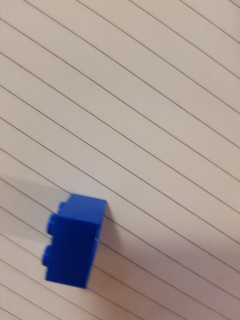2x2 blue: (39, 191, 111, 292)
